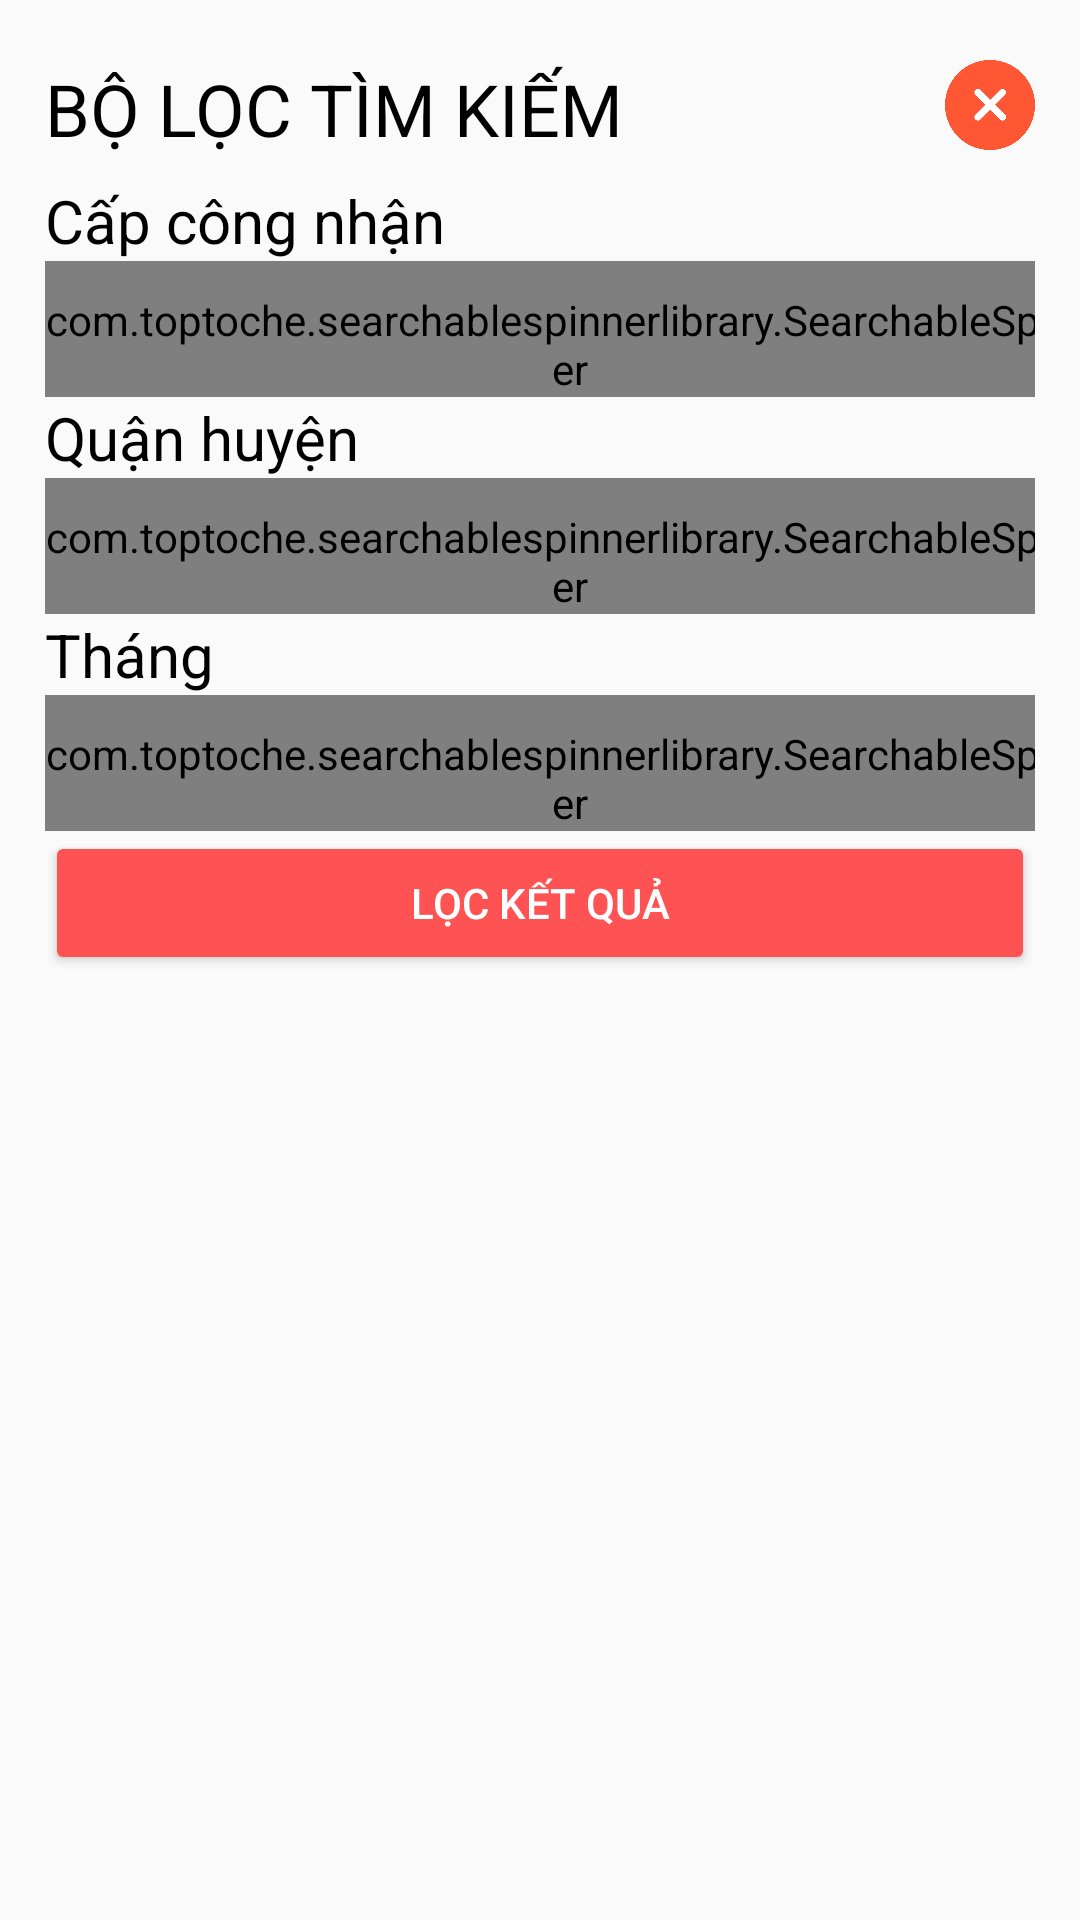

Named icons in this screenshot (1080x1920) and their centers, (x=x, y=y):
cancel: (x=990, y=105)
